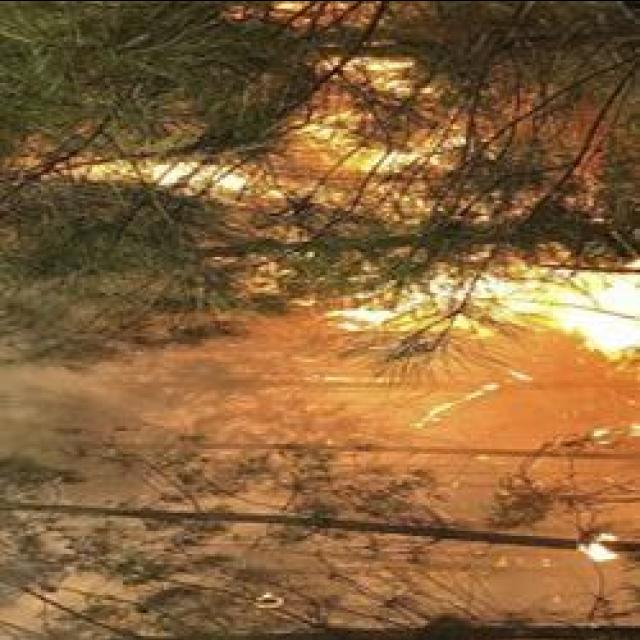fire: (328, 274, 640, 380), (318, 55, 478, 218), (136, 161, 250, 212)
smoke: (15, 372, 179, 487)
